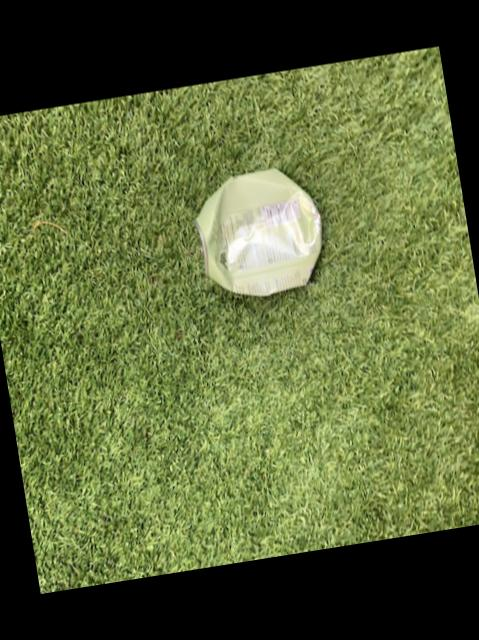metal: (193, 170, 318, 297)
